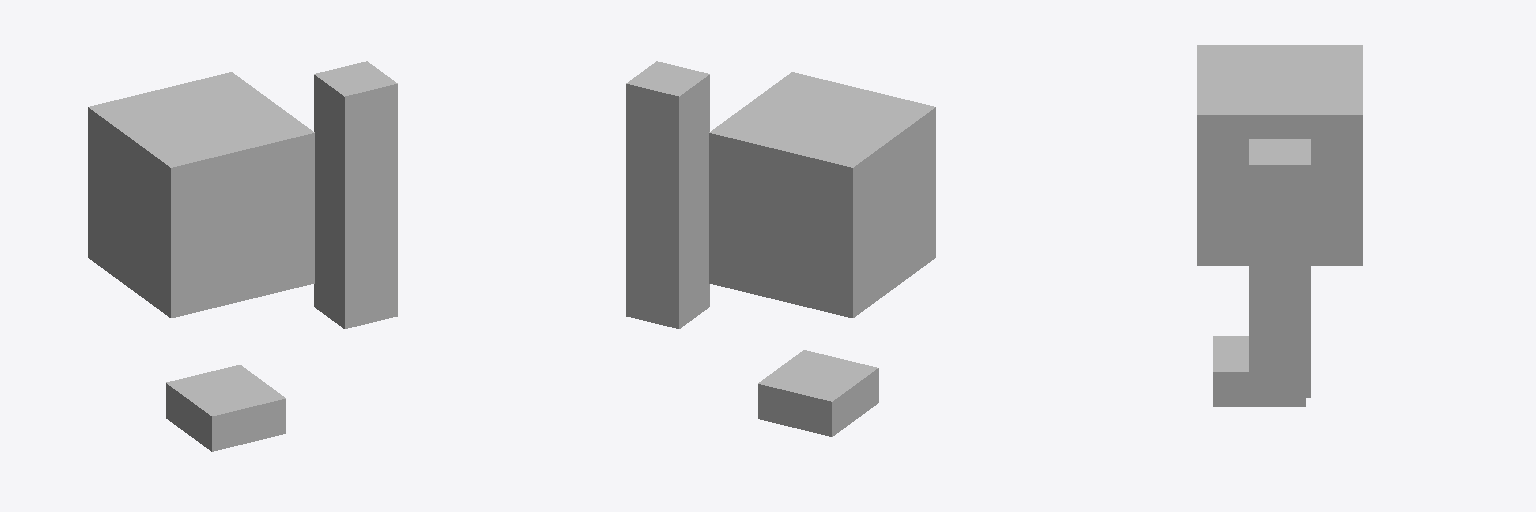
The model's file is parent.obj.
3 renders of one model, left to right at view 1: azimuth 30°, elevation 25°; view 2: azimuth 150°, elevation 25°; view 3: azimuth 270°, elevation 25°, orthographic.
Parts seen in each view (by area): view 1: pCube1, pCube1 pCube2, pCube1 pCube2 pCube3; view 2: pCube1, pCube1 pCube2, pCube1 pCube2 pCube3; view 3: pCube1, pCube1 pCube2, pCube1 pCube2 pCube3.
Part boxes in pixels (x1,y1,x2,y2): pCube1: (88,72,314,317); pCube1 pCube2: (314,61,397,328); pCube1 pCube2 pCube3: (166,365,285,451); pCube1: (709,72,935,317); pCube1 pCube2: (626,61,709,328); pCube1 pCube2 pCube3: (758,350,878,436); pCube1: (1197,45,1362,265); pCube1 pCube2: (1249,139,1310,397); pCube1 pCube2 pCube3: (1213,336,1305,406).
Size of the model in its own units: 176 by 203 by 100.